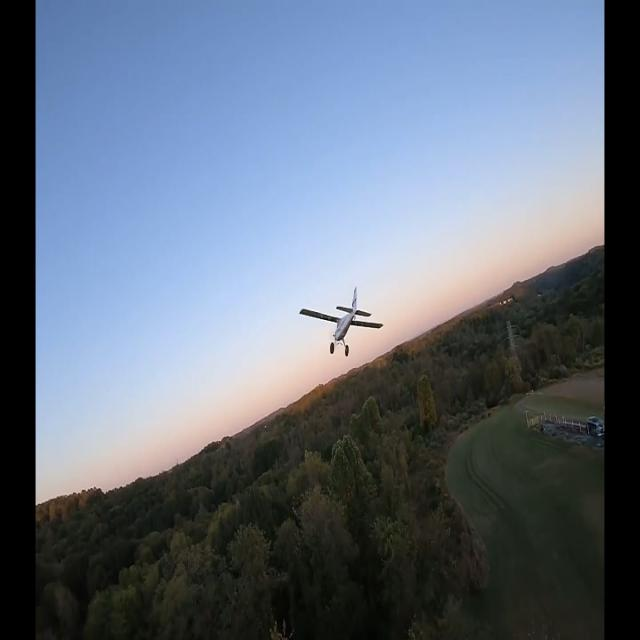iha: (330, 319, 351, 324)
